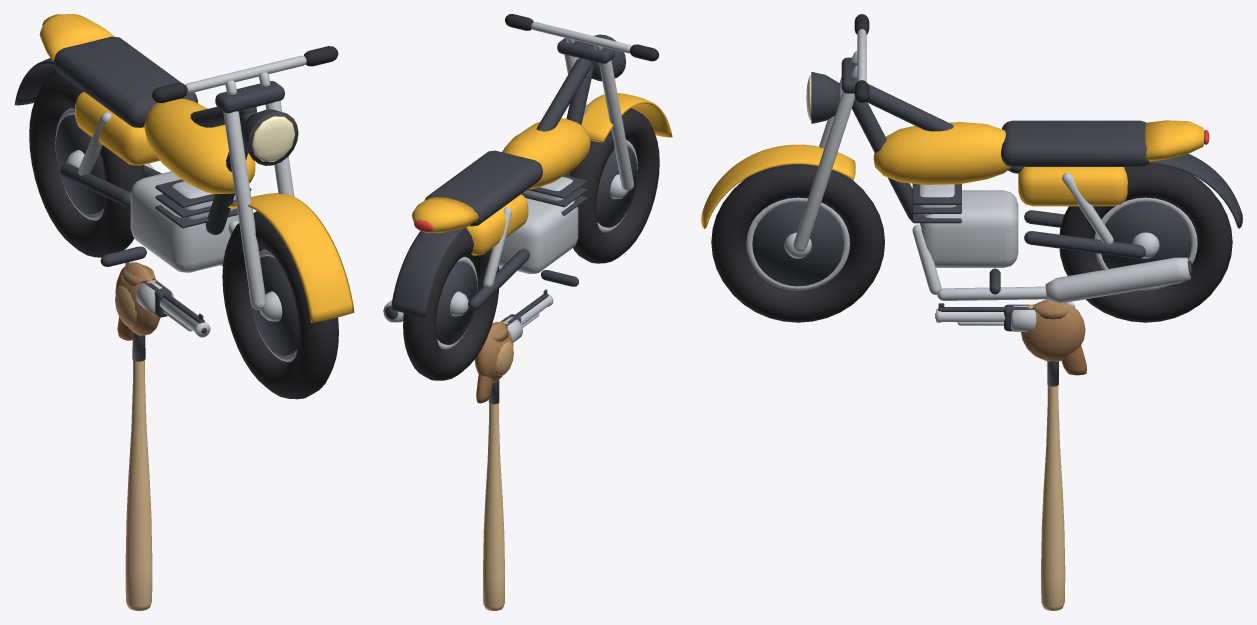
The model's file is props.glb.
The picture shows the model from 3 angles, left to right: view 1: azimuth 30°, elevation 25°; view 2: azimuth 150°, elevation 25°; view 3: azimuth 270°, elevation 25°; orthographic projection. The views are drawn at different scales.
Visible parts, largest first — view 1: Bike, Bat, Gun, Mitt; view 2: Bike, Bat, Mitt, Gun; view 3: Bike, Bat, Gun, Mitt.
Boxes of the visible parts, bbox=[...] form: Bike: bbox=[14, 14, 354, 399]; Bat: bbox=[125, 332, 152, 610]; Gun: bbox=[117, 261, 210, 340]; Mitt: bbox=[115, 262, 160, 335]; Bike: bbox=[383, 14, 672, 380]; Bat: bbox=[483, 379, 504, 610]; Mitt: bbox=[474, 322, 513, 380]; Gun: bbox=[476, 289, 553, 403]; Bike: bbox=[701, 14, 1242, 322]; Bat: bbox=[1041, 361, 1065, 610]; Gun: bbox=[935, 302, 1086, 375]; Mitt: bbox=[1021, 299, 1085, 359].
Size of the model in its own units: 0.66 by 2.12 by 1.87.
